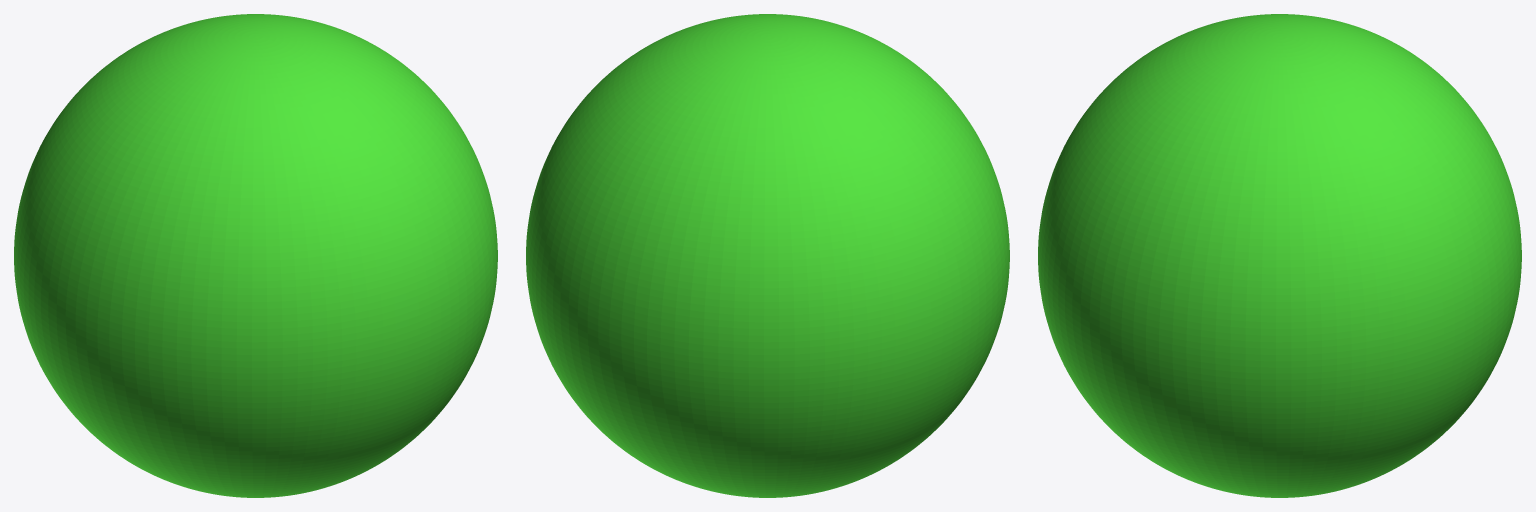
3 views of the same model, side by side, from view 1: azimuth 30°, elevation 25°; view 2: azimuth 150°, elevation 25°; view 3: azimuth 270°, elevation 25° (orthographic).
Visible parts, largest first — view 1: Sphere; view 2: Sphere; view 3: Sphere.
Part boxes in pixels (left/top/right/bottom): Sphere: left=14, top=14, right=497, bottom=497; Sphere: left=526, top=14, right=1009, bottom=497; Sphere: left=1038, top=14, right=1521, bottom=497.
Size of the model in its own units: 2 by 2 by 2.
